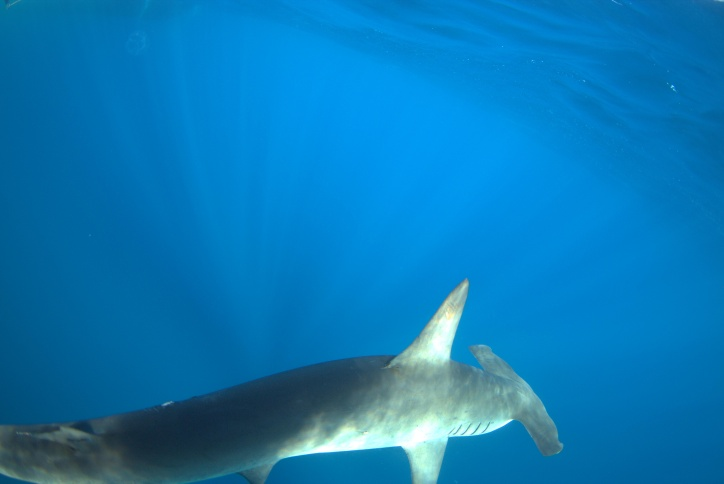Hammer: (9, 264, 576, 484)
